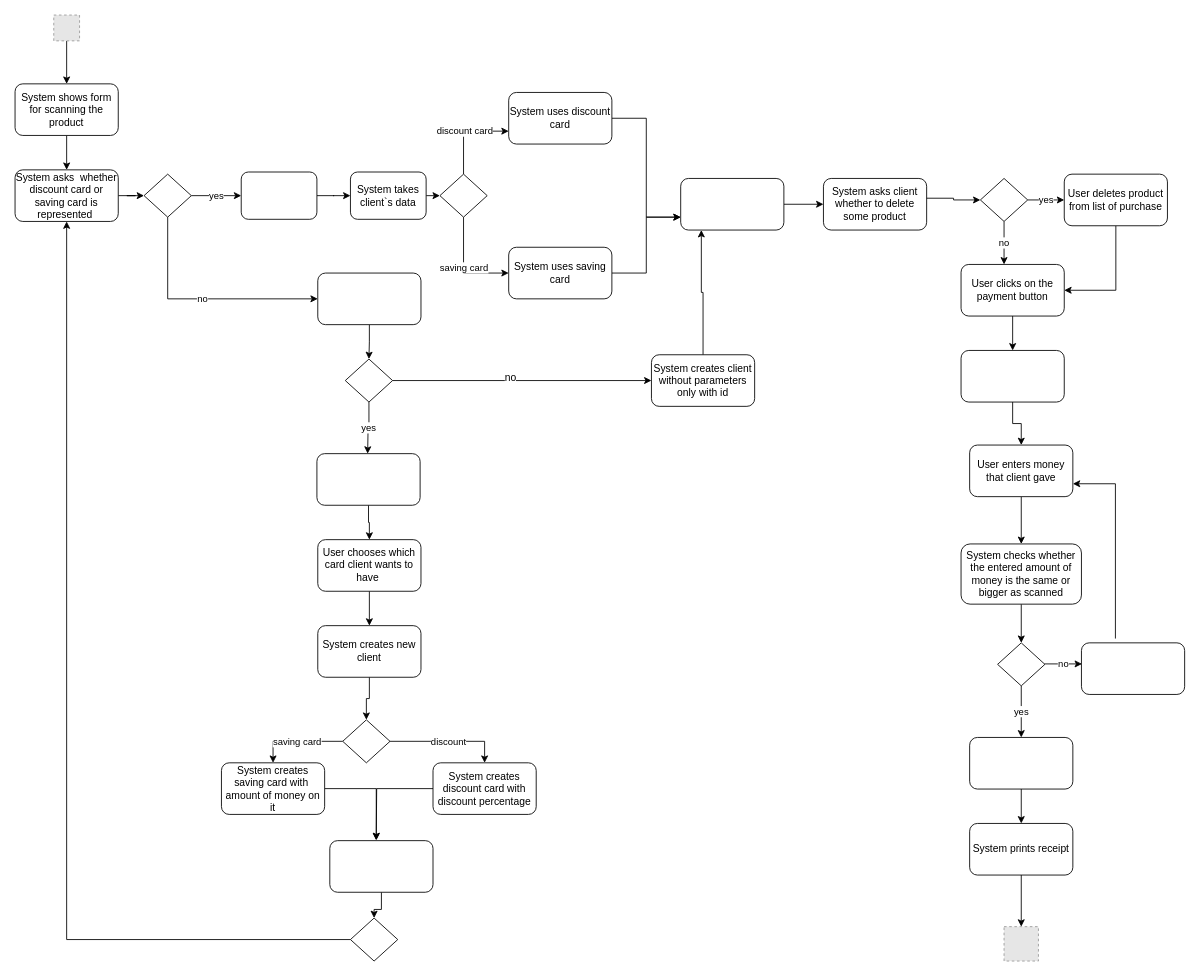
Some shapes in this 1200 by 976 pixel diagram are drawn without their labels. Grey dashed boxes stand in for pictures. Here are the shapes that lost their labels. From the top down, the box of each, then its label:
(240, 171, 317, 219): System searches client in the db
(680, 178, 784, 230): User scans products
(317, 272, 421, 325): System asks whether client wants to have card
(960, 350, 1064, 402): System shows payment form
(316, 453, 420, 505): System shows form for creating the card
(1081, 642, 1185, 694): System shows error window and ask to enter the sum again
(969, 737, 1073, 789): System shows change
(329, 840, 433, 892): System assignes card to created client
